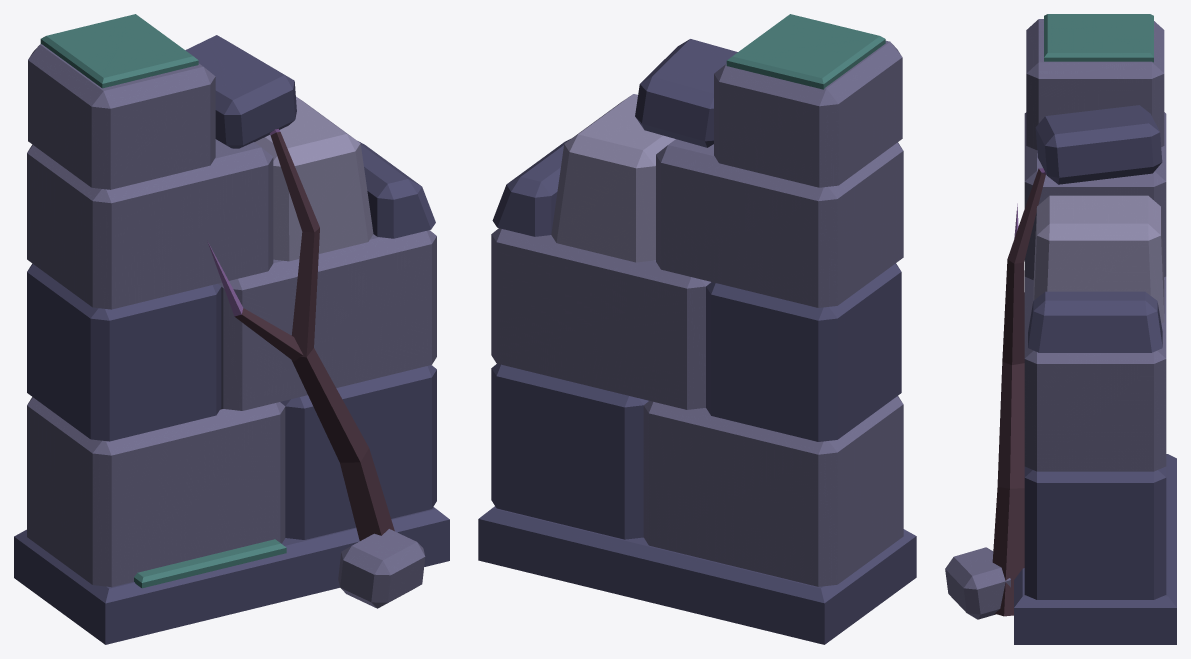
Rendered from wall_segment.glb.
3 renders of one model, left to right at view 1: azimuth 30°, elevation 25°; view 2: azimuth 150°, elevation 25°; view 3: azimuth 270°, elevation 25°, orthographic. The views are drawn at different scales.
Parts seen in each view (by area): view 1: wall_segment; view 2: wall_segment; view 3: wall_segment.
Boxes of the visible parts, <box> form: wall_segment: <box>14,14,449,644</box>; wall_segment: <box>478,14,916,644</box>; wall_segment: <box>945,14,1176,644</box>.
Size of the model in its own units: 2 by 3.05 by 1.31.
Materials: 1 (1 with a texture image).
